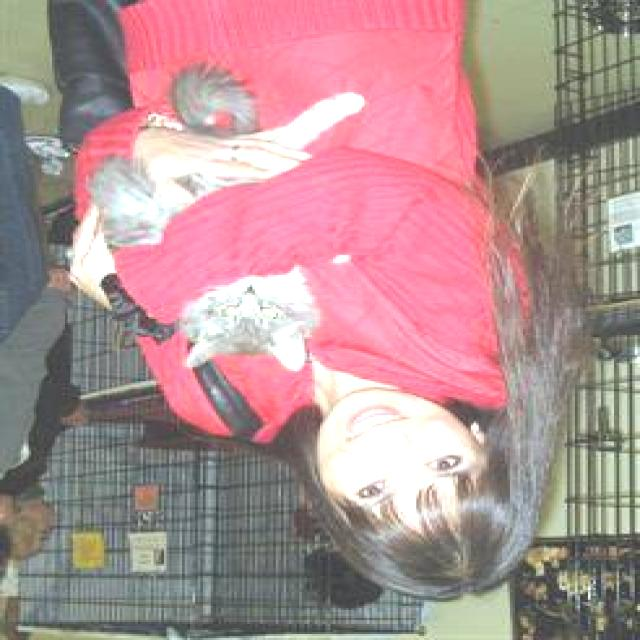Kucing: (31, 53, 380, 379)
